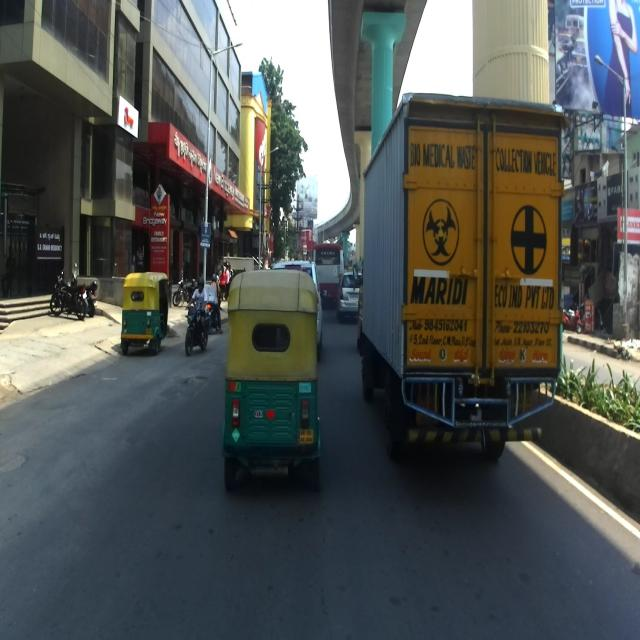Car_Toyota: (335, 268, 367, 328)
autorickshaw: (219, 266, 324, 492), (119, 270, 171, 355)
motorcycle_Honda: (49, 266, 88, 320)
motorcycle_bajaj: (184, 305, 210, 356)
truck: (351, 91, 566, 465)
